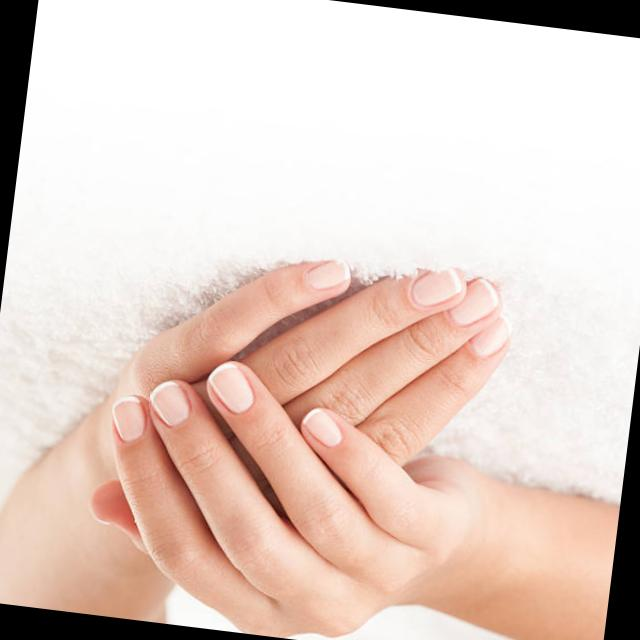Nail: (447, 278, 497, 324), (207, 361, 252, 412), (409, 268, 462, 305), (149, 380, 190, 425), (300, 407, 342, 447), (110, 395, 146, 441), (467, 317, 508, 356), (304, 260, 349, 289)
